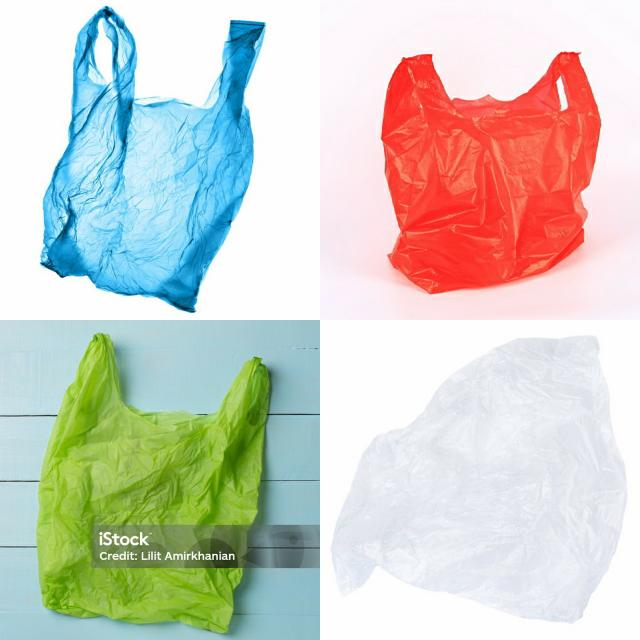Single-layer Plastic: (331, 336, 626, 622), (36, 334, 275, 634), (41, 8, 264, 311), (382, 54, 600, 293)
